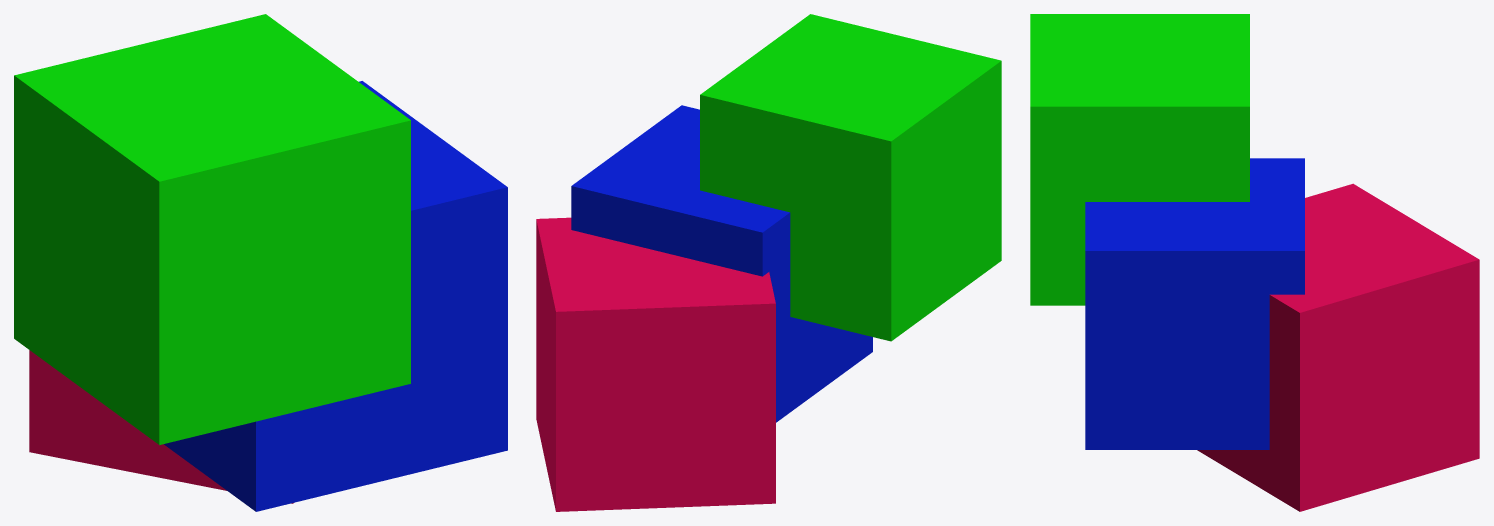
The picture shows the model from 3 angles, left to right: view 1: azimuth 30°, elevation 25°; view 2: azimuth 150°, elevation 25°; view 3: azimuth 270°, elevation 25°; orthographic projection. The views are drawn at different scales.
Visible parts, largest first — view 1: Cube.002, Cube.001, Cube; view 2: Cube.002, Cube, Cube.001; view 3: Cube, Cube.001, Cube.002.
Boxes of the visible parts, x1,y1,x2,y2 form: Cube.002: [14, 14, 410, 444]; Cube.001: [164, 81, 507, 511]; Cube: [29, 350, 293, 503]; Cube.002: [700, 14, 1001, 341]; Cube: [536, 217, 775, 511]; Cube.001: [571, 105, 872, 422]; Cube: [1197, 183, 1479, 511]; Cube.001: [1085, 158, 1304, 449]; Cube.002: [1030, 14, 1249, 305].
Bounding box in the file's own units: 3.45 × 3.4 × 4.09.
